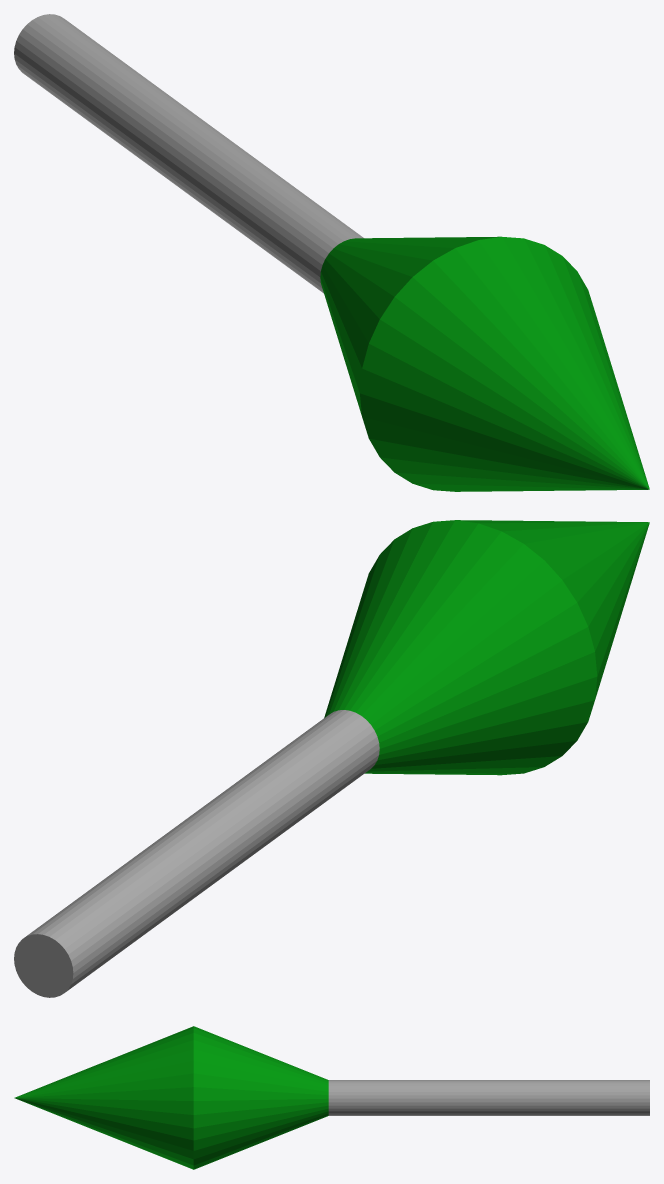
Rendered from rocketBullet.gltf.
3 renders of one model, top to bottom at view 1: azimuth 30°, elevation 25°; view 2: azimuth 150°, elevation 25°; view 3: azimuth 270°, elevation 25°, orthographic. The views are drawn at different scales.
Visible parts, largest first — view 1: 円錐.002, 円柱; view 2: 円錐.002, 円柱; view 3: 円錐.002, 円柱.
Boxes of the visible parts, x1,y1,x2,y2 form: 円錐.002: (320,236,649,491); 円柱: (14,14,363,293); 円錐.002: (324,520,649,775); 円柱: (14,710,379,997); 円錐.002: (14,1026,328,1169); 円柱: (328,1080,649,1115).
Bounding box in the file's own units: 0.8 × 0.8 × 3.54.
